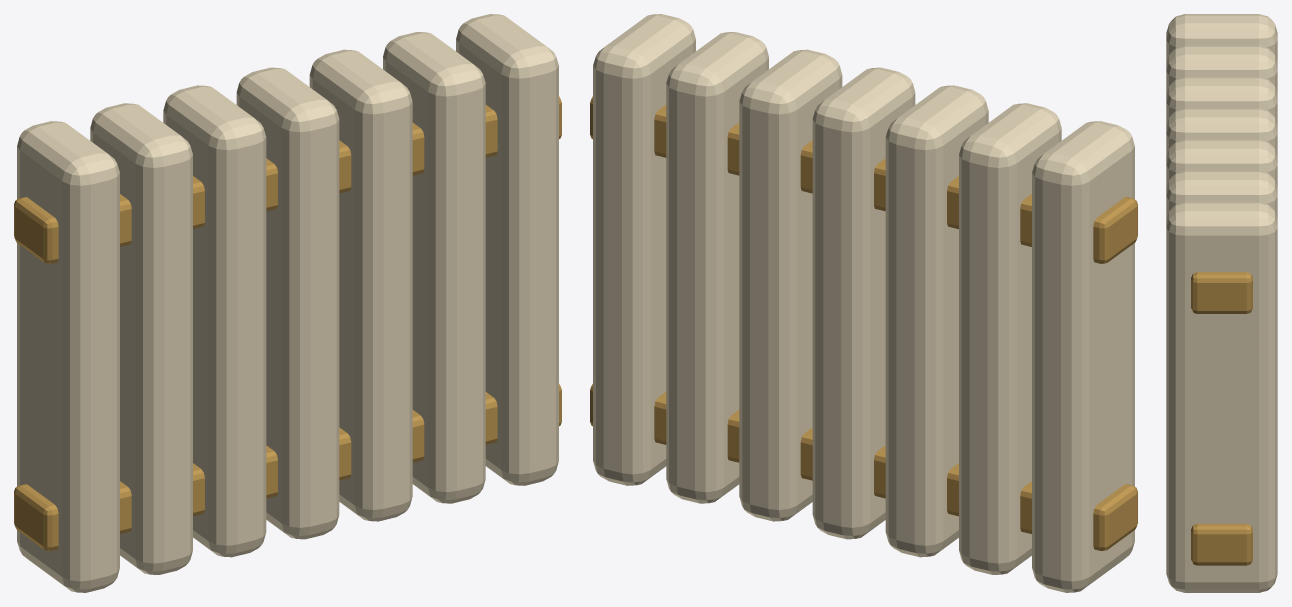
The model's file is SM_CH_Story_Radiator.fbx.
The picture shows the model from 3 angles, left to right: view 1: azimuth 30°, elevation 25°; view 2: azimuth 150°, elevation 25°; view 3: azimuth 270°, elevation 25°; orthographic projection. The views are drawn at different scales.
Visible parts, largest first — view 1: SM_CH_Story_Radiator; view 2: SM_CH_Story_Radiator; view 3: SM_CH_Story_Radiator.
Part boxes in pixels (x1,y1,x2,y2): SM_CH_Story_Radiator: (14,14,561,592); SM_CH_Story_Radiator: (590,14,1137,592); SM_CH_Story_Radiator: (1166,14,1277,592).
Bounding box in the file's own units: 8500 × 1800 × 6800.
